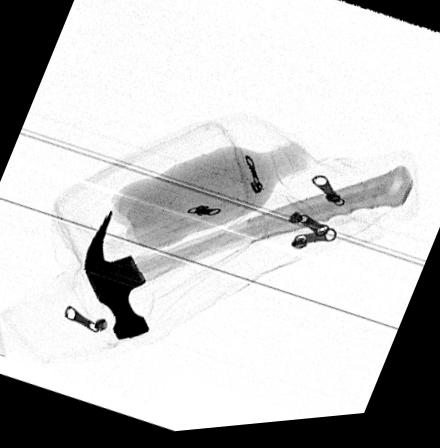Hammer: (82, 172, 414, 341)
